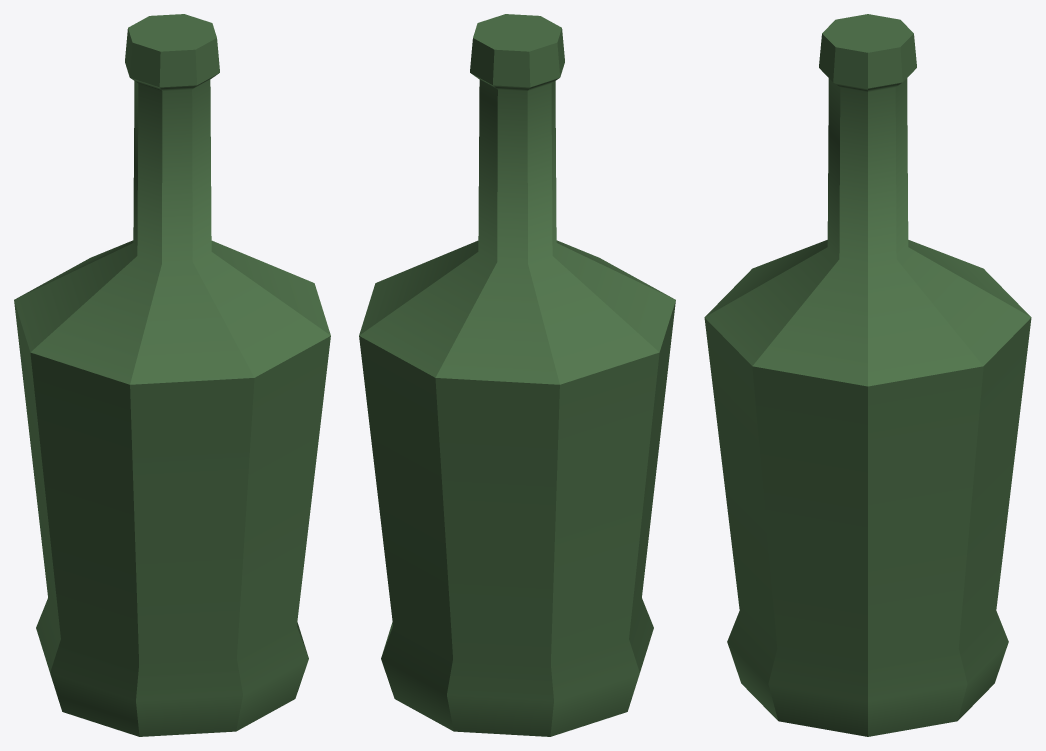
File: Bottom_bottle.fbx
The picture shows the model from 3 angles, left to right: view 1: azimuth 30°, elevation 25°; view 2: azimuth 150°, elevation 25°; view 3: azimuth 270°, elevation 25°; orthographic projection.
Visible parts, largest first — view 1: Bottom_Bottle; view 2: Bottom_Bottle; view 3: Bottom_Bottle.
Boxes of the visible parts, x1=… form: Bottom_Bottle: x1=14, y1=14, x2=330, y2=736; Bottom_Bottle: x1=359, y1=14, x2=675, y2=736; Bottom_Bottle: x1=704, y1=14, x2=1031, y2=736.
Bounding box in the file's own units: 0.8494 × 1.86 × 0.8494.
